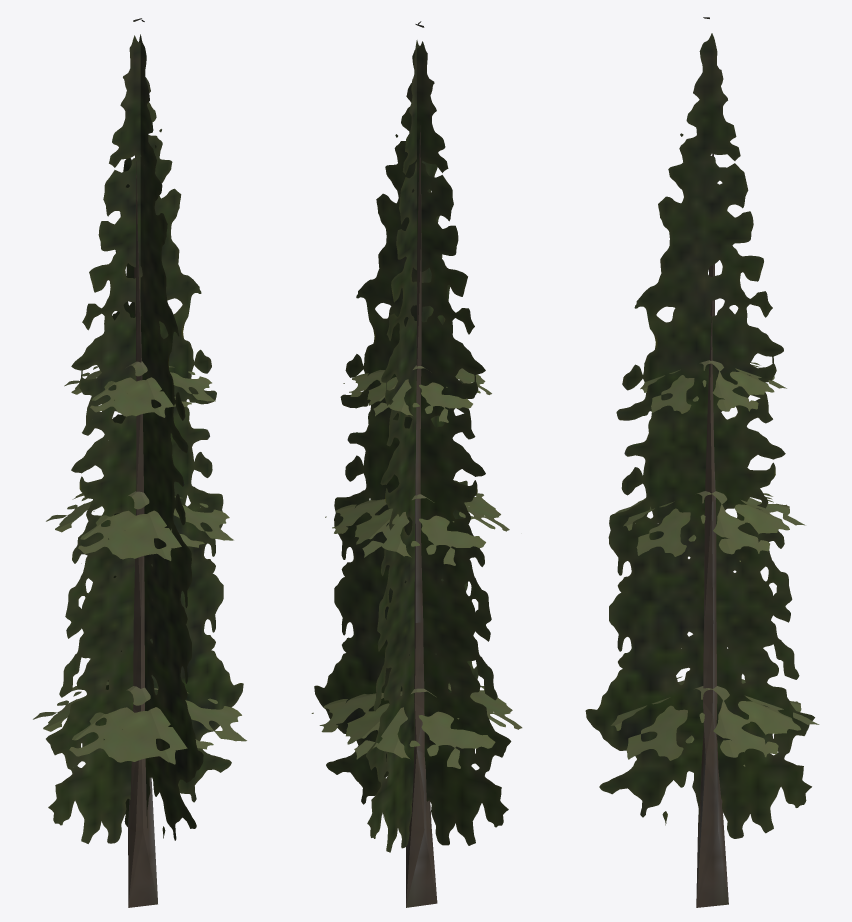
File: forest_pine000.glb
3 views of the same model, side by side, from view 1: azimuth 30°, elevation 25°; view 2: azimuth 150°, elevation 25°; view 3: azimuth 270°, elevation 25° (orthographic).
Bounding box in the file's own units: 2.09 × 7.8 × 2.11.
Materials: 1 (1 with a texture image).
